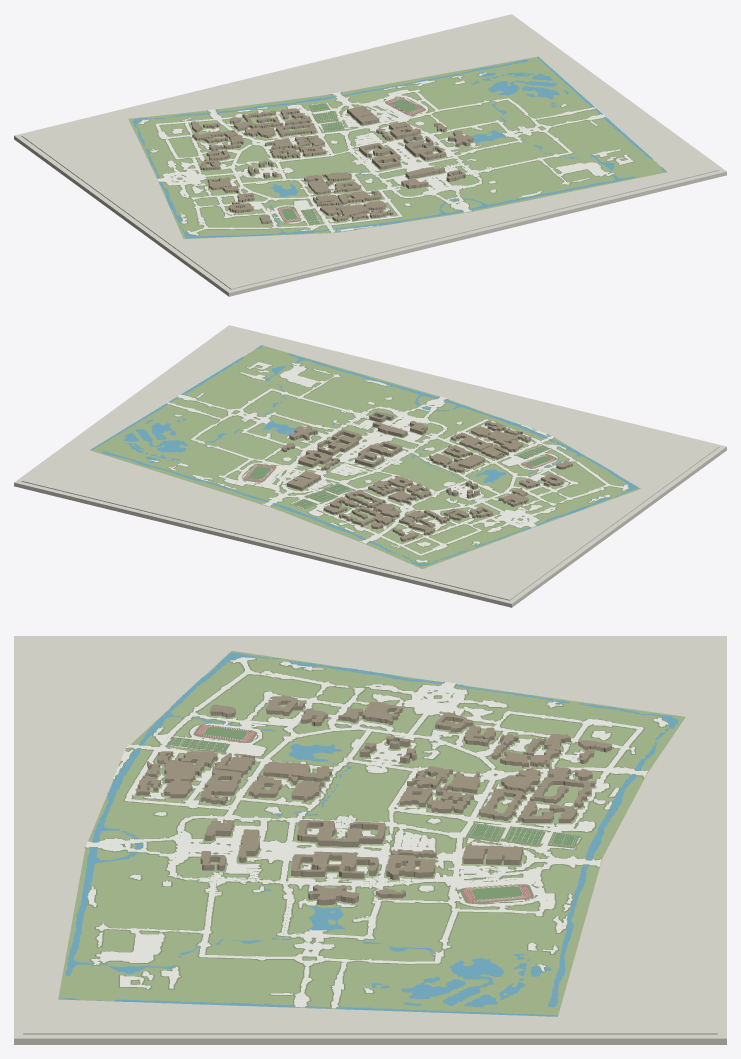
The model's file is nku-jinnan-position-plan.glb.
3 renders of one model, top to bottom at view 1: azimuth 30°, elevation 25°; view 2: azimuth 150°, elevation 25°; view 3: azimuth 270°, elevation 25°, orthographic. The views are drawn at different scales.
Parts seen in each view (by area): view 1: Nankai_Jinnan_Calibrated_Rough_Model, source-plan-road, source-plan-curb, source-plan-water, 建筑轮廓 41, 建筑轮廓 29, 建筑轮廓 28, 建筑轮廓 03, 建筑轮廓 13; view 2: Nankai_Jinnan_Calibrated_Rough_Model, source-plan-road, source-plan-curb, source-plan-water, 建筑轮廓 41, 建筑轮廓 28, 建筑轮廓 29, 建筑轮廓 13, 建筑轮廓 03; view 3: Nankai_Jinnan_Calibrated_Rough_Model, source-plan-road, source-plan-curb, source-plan-water, 建筑轮廓 29, 建筑轮廓 41, 建筑轮廓 28, 建筑轮廓 13, 建筑轮廓 03, 建筑轮廓 15, 建筑轮廓 33, 建筑轮廓 42 (+7 smaller).
Boxes of the visible parts, bbox=[...] form: Nankai_Jinnan_Calibrated_Rough_Model: bbox=[14, 14, 726, 296]; source-plan-road: bbox=[138, 72, 633, 235]; source-plan-curb: bbox=[137, 72, 634, 235]; source-plan-water: bbox=[132, 56, 666, 238]; 建筑轮廓 41: bbox=[320, 201, 386, 221]; 建筑轮廓 29: bbox=[403, 134, 446, 160]; 建筑轮廓 28: bbox=[359, 143, 400, 169]; 建筑轮廓 03: bbox=[234, 110, 283, 131]; 建筑轮廓 13: bbox=[265, 135, 324, 149]; Nankai_Jinnan_Calibrated_Rough_Model: bbox=[14, 325, 726, 607]; source-plan-road: bbox=[149, 362, 628, 562]; source-plan-curb: bbox=[148, 361, 629, 562]; source-plan-water: bbox=[90, 345, 638, 566]; 建筑轮廓 41: bbox=[471, 426, 531, 451]; 建筑轮廓 28: bbox=[355, 441, 402, 467]; 建筑轮廓 29: bbox=[317, 429, 361, 455]; 建筑轮廓 13: bbox=[368, 480, 416, 504]; 建筑轮廓 03: bbox=[339, 505, 394, 526]; Nankai_Jinnan_Calibrated_Rough_Model: bbox=[14, 636, 726, 1044]; source-plan-road: bbox=[85, 657, 668, 1008]; source-plan-curb: bbox=[84, 657, 668, 1008]; source-plan-water: bbox=[58, 652, 678, 1016]; 建筑轮廓 29: bbox=[291, 851, 378, 878]; 建筑轮廓 41: bbox=[157, 751, 217, 798]; 建筑轮廓 28: bbox=[297, 819, 385, 846]; 建筑轮廓 13: bbox=[427, 771, 480, 813]; 建筑轮廓 03: bbox=[530, 767, 594, 808]; 建筑轮廓 15: bbox=[463, 845, 523, 865]; 建筑轮廓 33: bbox=[263, 761, 331, 784]; 建筑轮廓 42: bbox=[200, 769, 242, 804].
Size of the model in its own units: 151 by 2.6 by 113.
